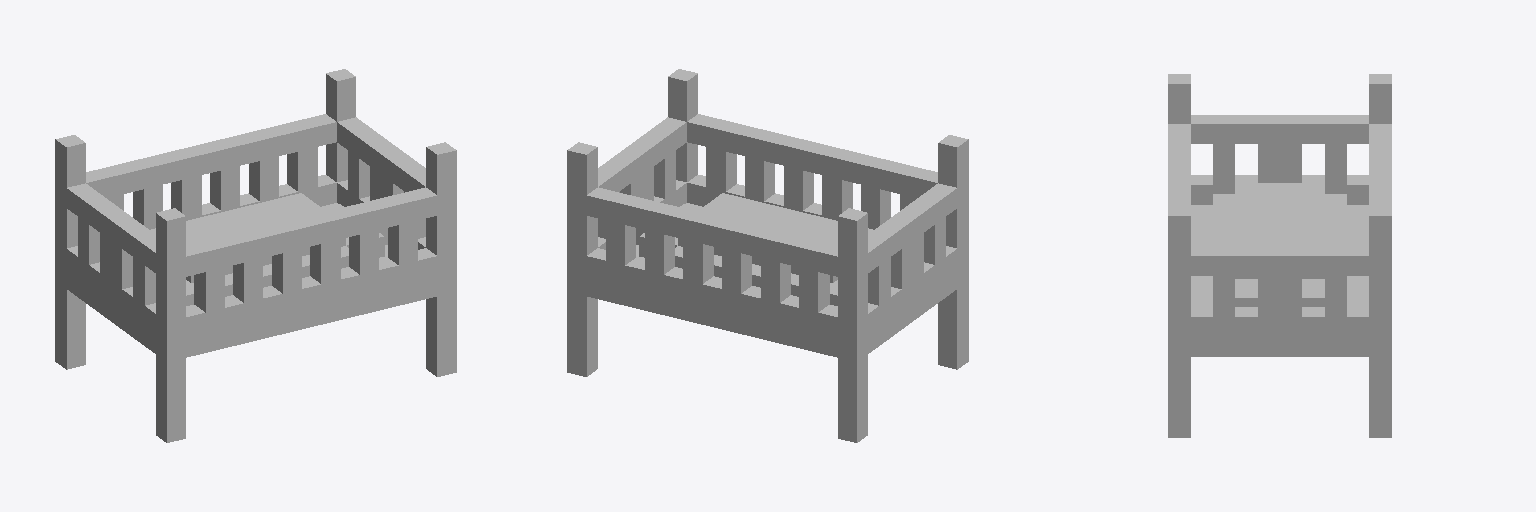
File: obj_cradle.obj
3 renders of one model, left to right at view 1: azimuth 30°, elevation 25°; view 2: azimuth 150°, elevation 25°; view 3: azimuth 270°, elevation 25°, orthographic.
Parts seen in each view (by area): view 1: obj_cradle; view 2: obj_cradle; view 3: obj_cradle.
Boxes of the visible parts, <box> form: obj_cradle: <box>55,69,456,442</box>; obj_cradle: <box>567,69,968,442</box>; obj_cradle: <box>1168,74,1391,437</box>.
Size of the model in its own units: 15 by 11 by 10.